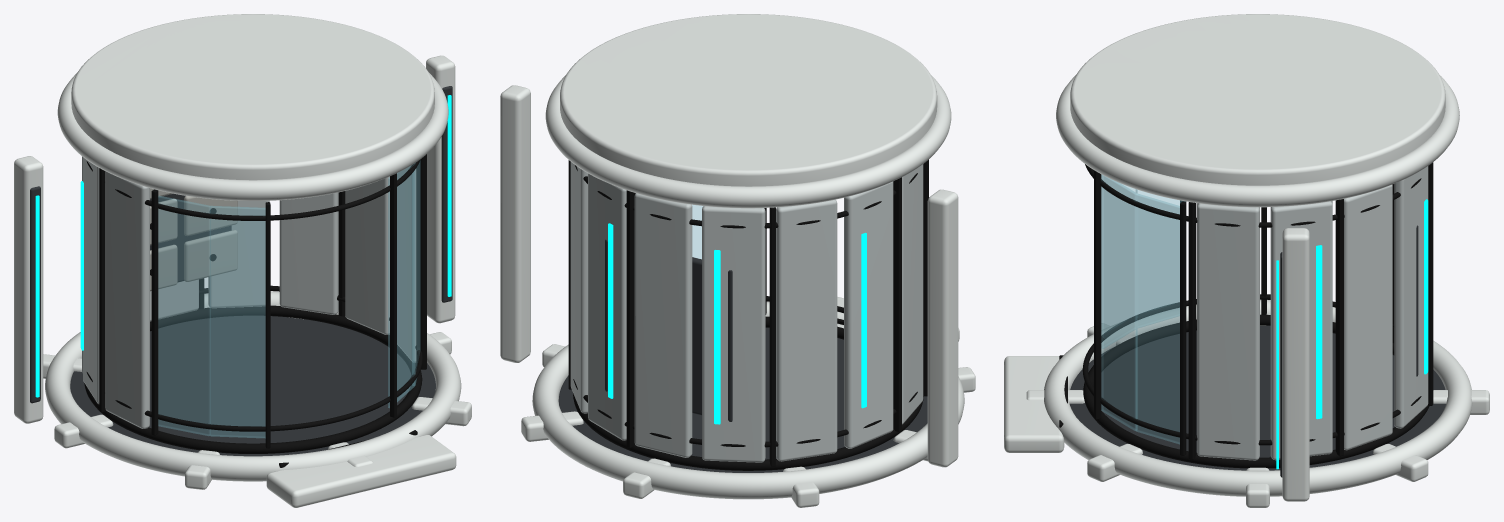
File: PortalElevator.fbx
The picture shows the model from 3 angles, left to right: view 1: azimuth 30°, elevation 25°; view 2: azimuth 150°, elevation 25°; view 3: azimuth 270°, elevation 25°; orthographic projection. The views are drawn at different scales.
Parts seen in each view (by area): view 1: Elevator_Top_Circular_Ceiling, Elevator_Dark_Circular_Floor, Curved_Front_Glass_Panel_2, Elevator_Outer_White_Base_Ring, Curved_Front_Glass_Panel_1, Curved_Back_Wall_Panel_9, Elevator_Top_Outer_Ring, Curved_Back_Wall_Panel_3, Front_Entry_Step, Curved_Back_Wall_Panel_2, Elevator_Black_Inner_Base_Ring, Left_Outer_Wall_Tall_Light_Panel (+29 smaller); view 2: Elevator_Top_Circular_Ceiling, Curved_Back_Wall_Panel_7, Curved_Back_Wall_Panel_5, Curved_Back_Wall_Panel_6, Elevator_Outer_White_Base_Ring, Curved_Back_Wall_Panel_8, Elevator_Top_Outer_Ring, Left_Outer_Wall_Tall_Light_Panel, Curved_Back_Wall_Panel_4, Right_Outer_Wall_Tall_Light_Panel, Curved_Back_Wall_Panel_9, Curved_Back_Wall_Panel_3 (+16 smaller); view 3: Elevator_Top_Circular_Ceiling, Curved_Back_Wall_Panel_1, Elevator_Outer_White_Base_Ring, Curved_Back_Wall_Panel_3, Elevator_Dark_Circular_Floor, Elevator_Top_Outer_Ring, Curved_Front_Glass_Panel_4, Curved_Front_Glass_Panel_3, Curved_Back_Wall_Panel_2, Right_Outer_Wall_Tall_Light_Panel, Curved_Back_Wall_Panel_4, Curved_Front_Glass_Panel_2 (+19 smaller).
Boxes of the visible parts, x1=… form: Elevator_Top_Circular_Ceiling: x1=71, y1=14, x2=434, y2=180; Elevator_Dark_Circular_Floor: x1=70, y1=315, x2=435, y2=456; Curved_Front_Glass_Panel_2: x1=210, y1=206, x2=265, y2=438; Elevator_Outer_White_Base_Ring: x1=45, y1=291, x2=461, y2=481; Curved_Front_Glass_Panel_1: x1=158, y1=196, x2=210, y2=435; Curved_Back_Wall_Panel_9: x1=105, y1=171, x2=149, y2=428; Elevator_Top_Outer_Ring: x1=57, y1=72, x2=448, y2=200; Curved_Back_Wall_Panel_3: x1=279, y1=192, x2=338, y2=314; Front_Entry_Step: x1=266, y1=434, x2=456, y2=507; Curved_Back_Wall_Panel_2: x1=345, y1=176, x2=389, y2=334; Elevator_Black_Inner_Base_Ring: x1=84, y1=305, x2=422, y2=453; Left_Outer_Wall_Tall_Light_Panel: x1=14, y1=156, x2=43, y2=423; Elevator_Top_Circular_Ceiling: x1=560, y1=14, x2=937, y2=186; Curved_Back_Wall_Panel_7: x1=776, y1=199, x2=837, y2=461; Curved_Back_Wall_Panel_5: x1=634, y1=193, x2=692, y2=457; Curved_Back_Wall_Panel_6: x1=702, y1=206, x2=765, y2=462; Elevator_Outer_White_Base_Ring: x1=532, y1=302, x2=964, y2=499; Curved_Back_Wall_Panel_8: x1=844, y1=181, x2=893, y2=448; Elevator_Top_Outer_Ring: x1=545, y1=75, x2=951, y2=208; Left_Outer_Wall_Tall_Light_Panel: x1=927, y1=189, x2=958, y2=467; Curved_Back_Wall_Panel_4: x1=588, y1=173, x2=626, y2=440; Right_Outer_Wall_Tall_Light_Panel: x1=500, y1=85, x2=530, y2=362; Curved_Back_Wall_Panel_9: x1=902, y1=164, x2=923, y2=424; Curved_Back_Wall_Panel_3: x1=570, y1=162, x2=587, y2=413; Elevator_Top_Circular_Ceiling: x1=1070, y1=14, x2=1445, y2=185; Curved_Back_Wall_Panel_1: x1=1197, y1=203, x2=1259, y2=460; Elevator_Outer_White_Base_Ring: x1=1044, y1=300, x2=1472, y2=496; Curved_Back_Wall_Panel_3: x1=1344, y1=184, x2=1392, y2=450; Elevator_Dark_Circular_Floor: x1=1069, y1=325, x2=1445, y2=470; Elevator_Top_Outer_Ring: x1=1056, y1=74, x2=1459, y2=207; Curved_Front_Glass_Panel_4: x1=1136, y1=194, x2=1179, y2=444; Curved_Front_Glass_Panel_3: x1=1101, y1=175, x2=1137, y2=430; Curved_Back_Wall_Panel_2: x1=1270, y1=201, x2=1332, y2=460; Right_Outer_Wall_Tall_Light_Panel: x1=1282, y1=228, x2=1309, y2=501; Curved_Back_Wall_Panel_4: x1=1394, y1=166, x2=1428, y2=428; Curved_Front_Glass_Panel_2: x1=1101, y1=175, x2=1137, y2=348.
Bounding box in the file's own units: 472 × 326 × 445.
